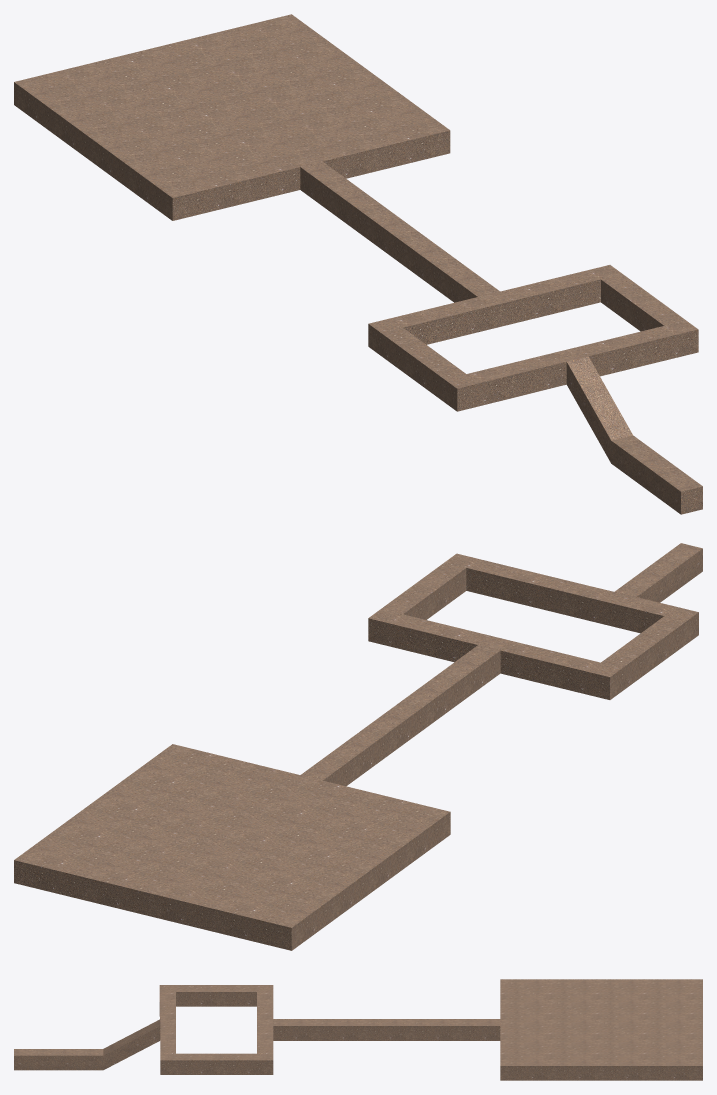
Rendered from map2.glb.
3 renders of one model, top to bottom at view 1: azimuth 30°, elevation 25°; view 2: azimuth 150°, elevation 25°; view 3: azimuth 270°, elevation 25°, orthographic. The views are drawn at different scales.
Visible parts, largest first — view 1: Cube.col; view 2: Cube.col; view 3: Cube.col.
Part boxes in pixels (x1=…): Cube.col: x1=14, y1=14, x2=702, y2=514; Cube.col: x1=14, y1=543, x2=702, y2=950; Cube.col: x1=14, y1=979, x2=702, y2=1080.
Size of the model in its own units: 25.27 by 6.04 by 84.96.
1 material, 1 textured.
